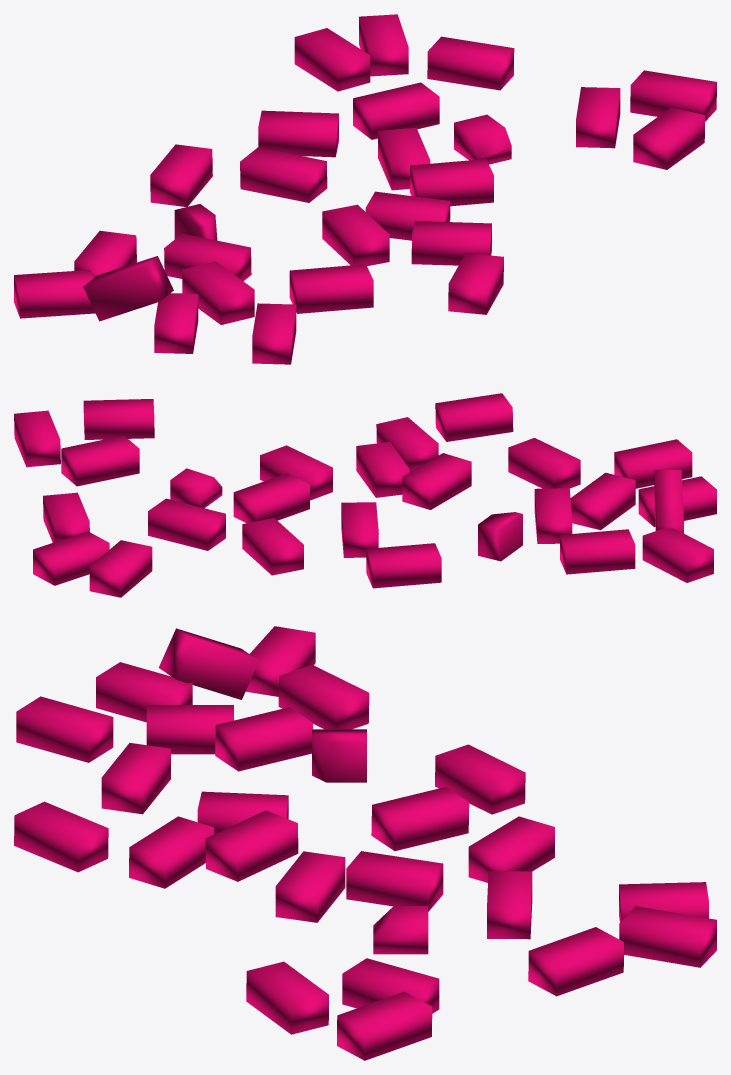
File: Brick_Pile_02.fbx
3 views of the same model, one above another, from view 1: azimuth 30°, elevation 25°; view 2: azimuth 150°, elevation 25°; view 3: azimuth 270°, elevation 25° (orthographic). The views are drawn at different scales.
Visible parts, largest first — view 1: Brick_Pile_02; view 2: Brick_Pile_02; view 3: Brick_Pile_02.
Part boxes in pixels (bbox=[...]): Brick_Pile_02: bbox=[14, 14, 716, 364]; Brick_Pile_02: bbox=[14, 393, 716, 597]; Brick_Pile_02: bbox=[14, 626, 716, 1060].
Bounding box in the file's own units: 213 × 18.9 × 157.
